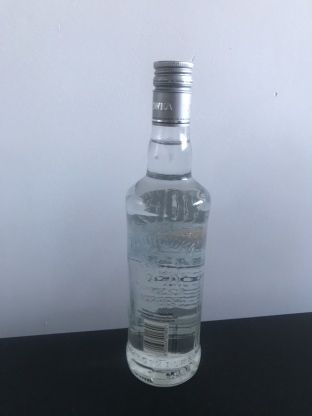nakretka: (151, 58, 193, 127)
